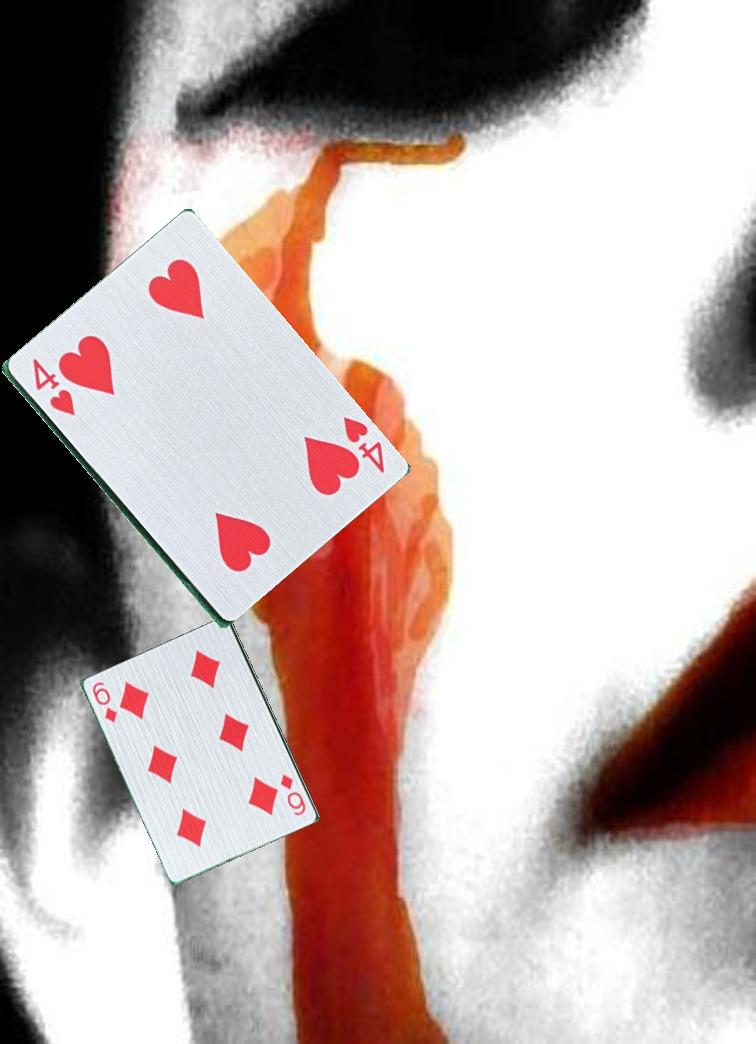4h: (324, 408, 387, 486), (27, 354, 78, 420)
6d: (277, 770, 309, 819), (89, 678, 121, 726)
